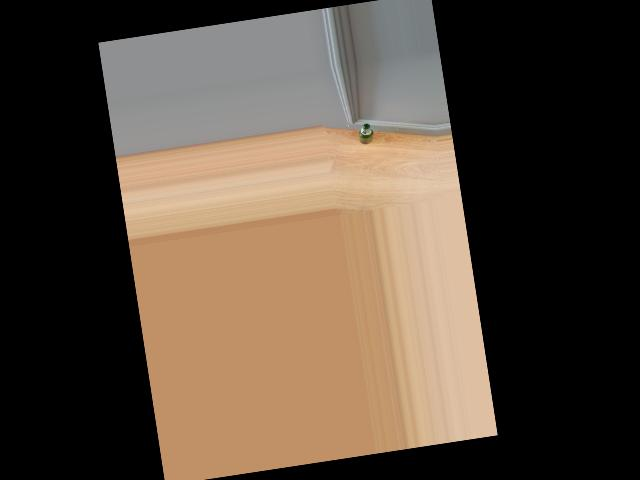beer: (357, 123, 374, 145)
